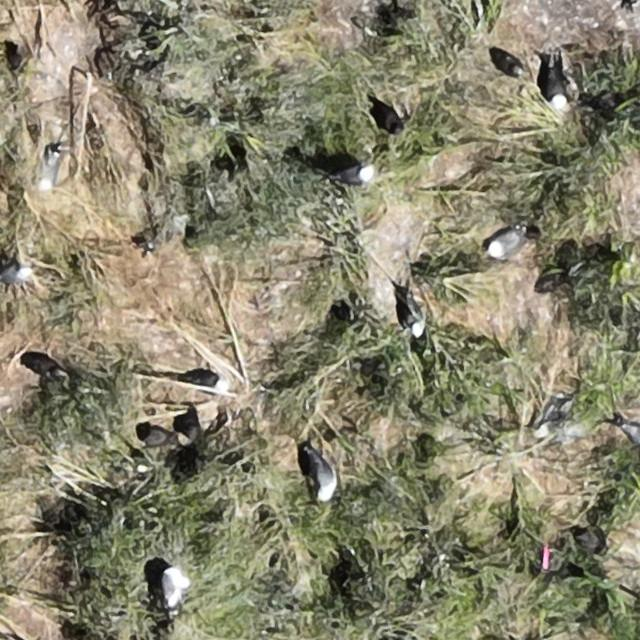umineko: (162, 567, 189, 615), (184, 368, 231, 392), (546, 68, 568, 110), (488, 230, 522, 256), (314, 457, 334, 499), (333, 165, 372, 184), (492, 51, 521, 76), (406, 301, 424, 336), (42, 154, 61, 187), (2, 265, 30, 285), (624, 424, 640, 448)
